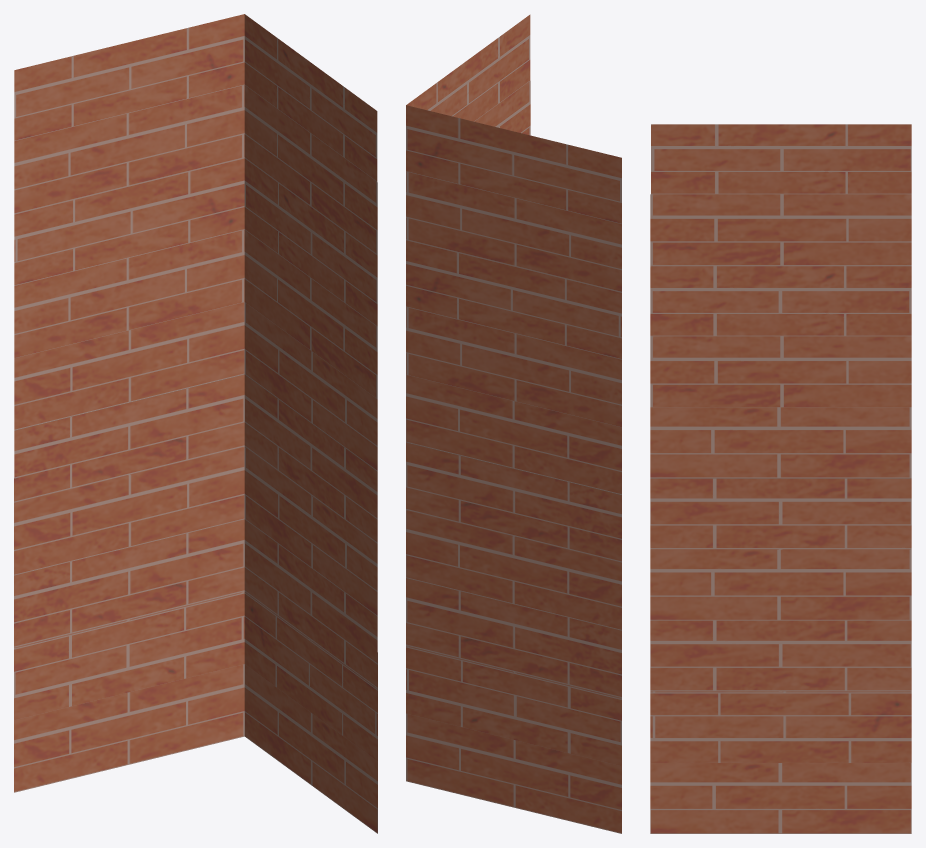
The model's file is MT_OS_ClosedCorner.fbx.
3 views of the same model, side by side, from view 1: azimuth 30°, elevation 25°; view 2: azimuth 150°, elevation 25°; view 3: azimuth 270°, elevation 25° (orthographic). The views are drawn at different scales.
Parts seen in each view (by area): view 1: ClosedCorner.002; view 2: ClosedCorner.002; view 3: ClosedCorner.002.
Part boxes in pixels (x1,y1,x2,y2): ClosedCorner.002: (14, 14, 377, 833); ClosedCorner.002: (406, 14, 621, 833); ClosedCorner.002: (650, 124, 911, 833).
Size of the model in its own units: 100 by 299 by 100.
